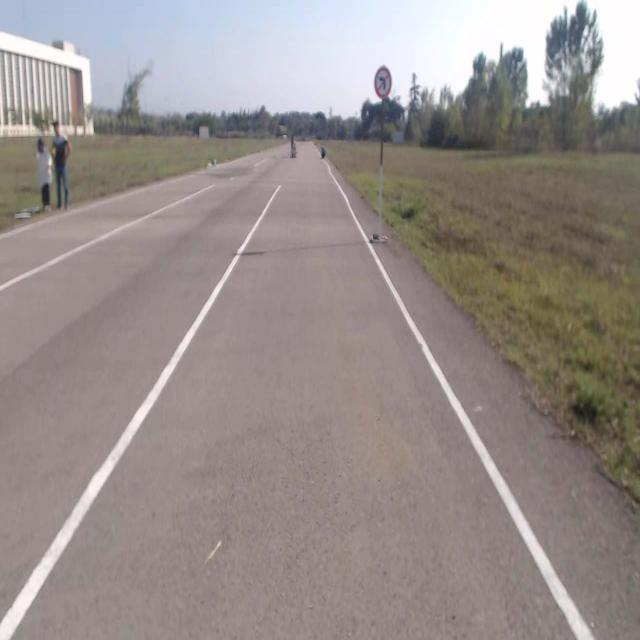soladonulmez: (374, 66, 392, 98)
